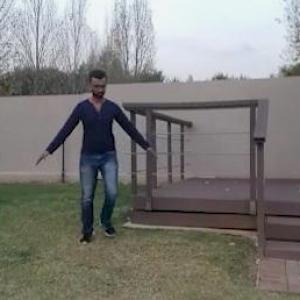land: (43, 62, 159, 262)
